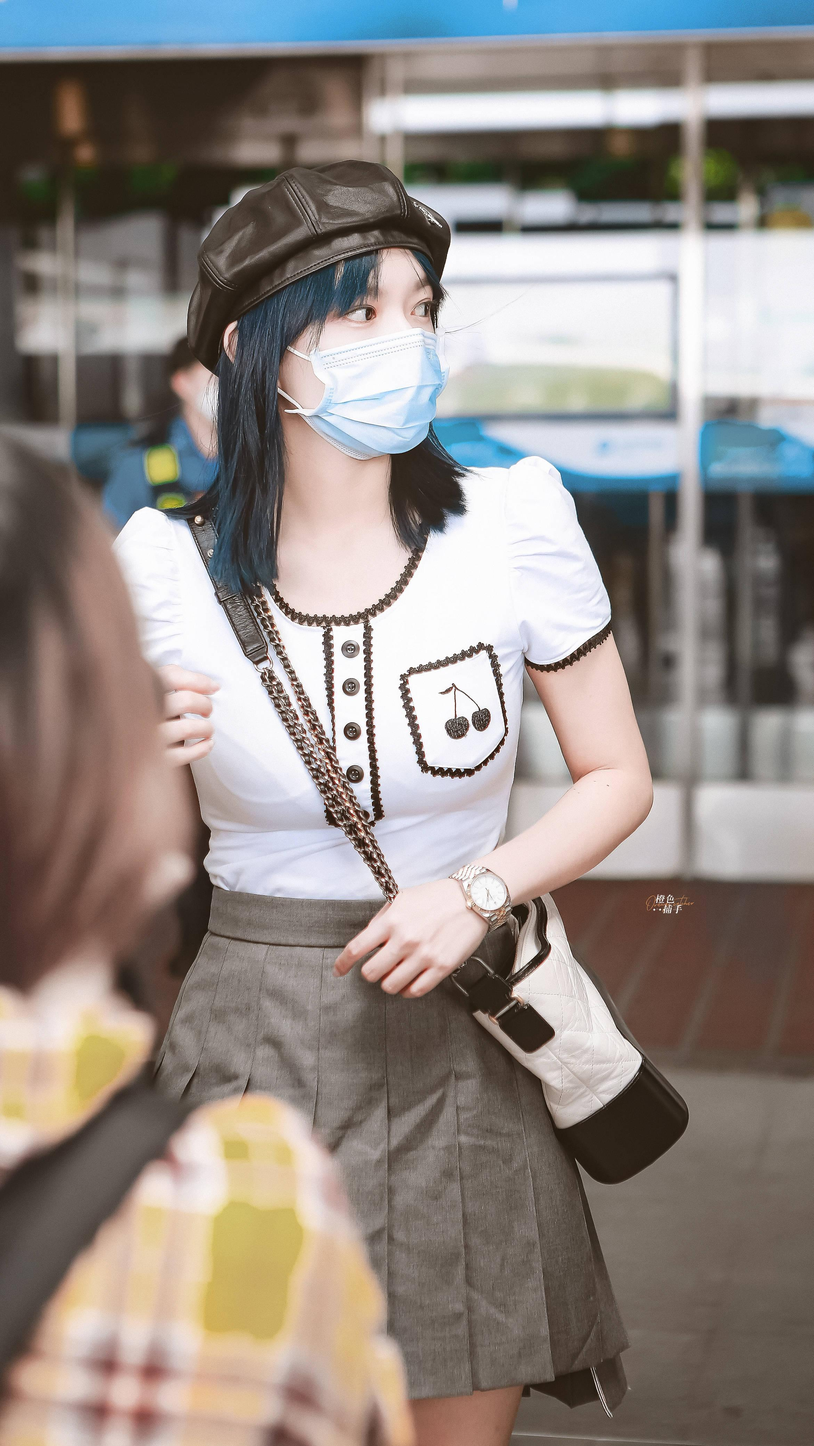OK: (299, 265, 449, 461)
